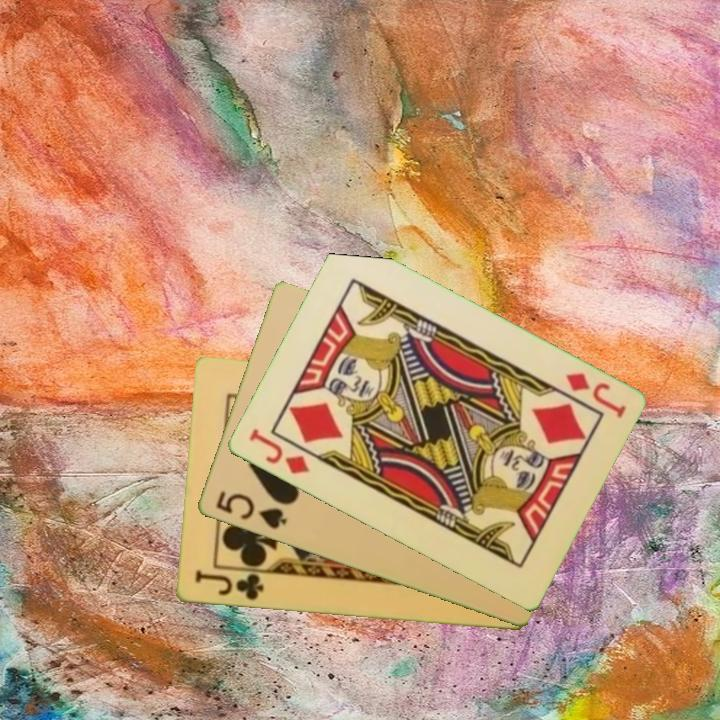5s: (211, 487, 289, 532)
Jc: (191, 567, 266, 603)
Jd: (245, 425, 312, 478), (561, 369, 628, 421)
